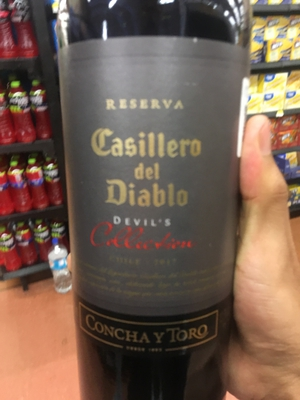casillero del diablo devils collection rojo: (56, 5, 240, 400)
